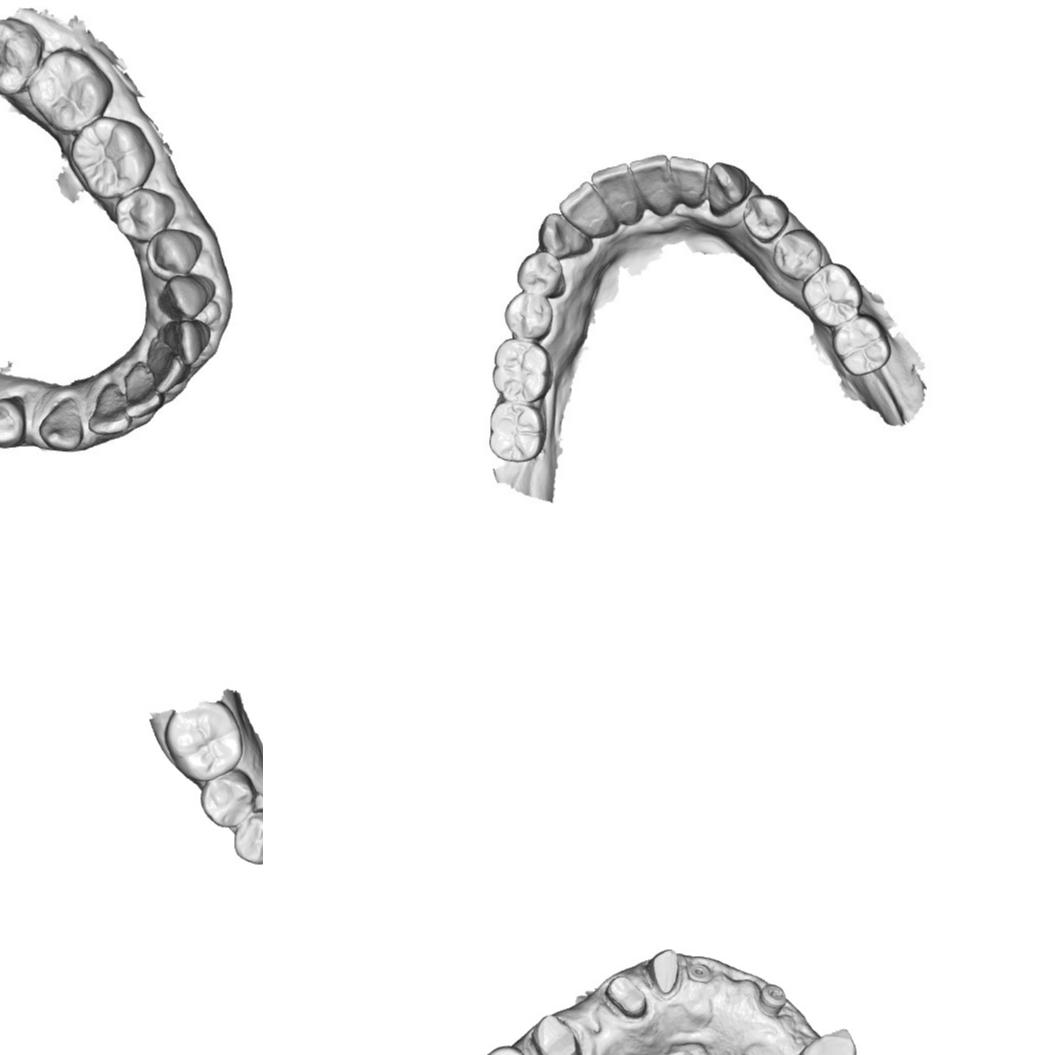canine: (534, 211, 595, 259), (703, 158, 751, 217), (37, 396, 84, 452), (164, 274, 215, 319), (795, 1025, 858, 1055)
crown: (529, 1010, 584, 1055), (602, 972, 649, 1024), (647, 946, 684, 998)
implant: (756, 981, 788, 1019), (684, 956, 714, 985)
incisor: (587, 158, 638, 227), (557, 182, 612, 237), (630, 151, 674, 213), (158, 318, 210, 366), (123, 360, 164, 419), (88, 382, 132, 436), (146, 339, 190, 393), (669, 153, 709, 209)
molar: (28, 48, 114, 134), (70, 116, 156, 198), (164, 698, 244, 782), (800, 261, 865, 330), (490, 338, 553, 403), (831, 314, 894, 378), (484, 400, 546, 463), (0, 16, 42, 95)
premolar: (198, 768, 256, 829), (114, 187, 176, 242), (145, 228, 202, 282), (512, 251, 572, 301), (772, 227, 826, 279), (503, 289, 556, 341), (739, 191, 787, 243), (232, 810, 263, 865), (0, 395, 26, 449)
